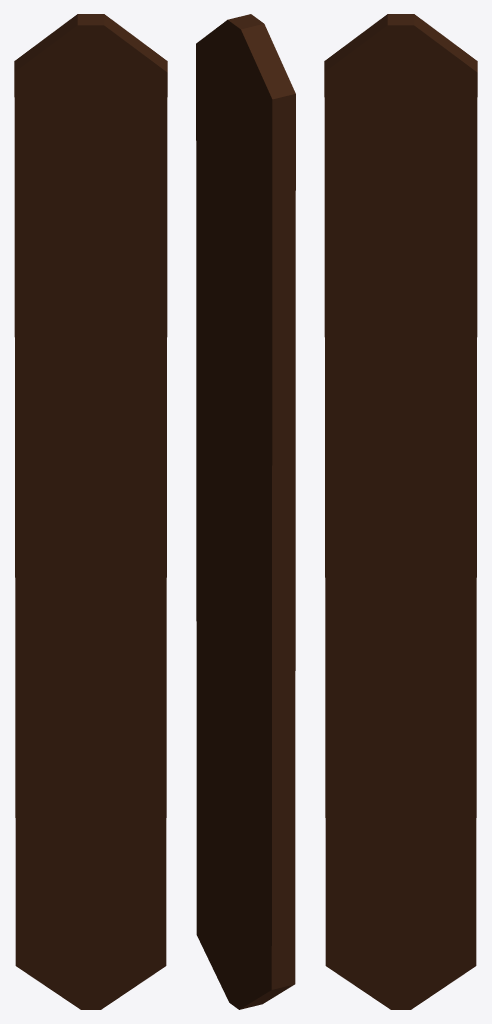
File: SM_Post_01.fbx
The picture shows the model from 3 angles, left to right: view 1: azimuth 90°, elevation 25°; view 2: azimuth 210°, elevation 25°; view 3: azimuth 270°, elevation 25°; orthographic projection.
Visible parts, largest first — view 1: Post; view 2: Post; view 3: Post.
Boxes of the visible parts, bbox=[...] form: Post: bbox=[14, 14, 167, 1009]; Post: bbox=[196, 14, 295, 1009]; Post: bbox=[324, 14, 477, 1009].
Bounding box in the file's own units: 3.95 × 22.21 × 158.
